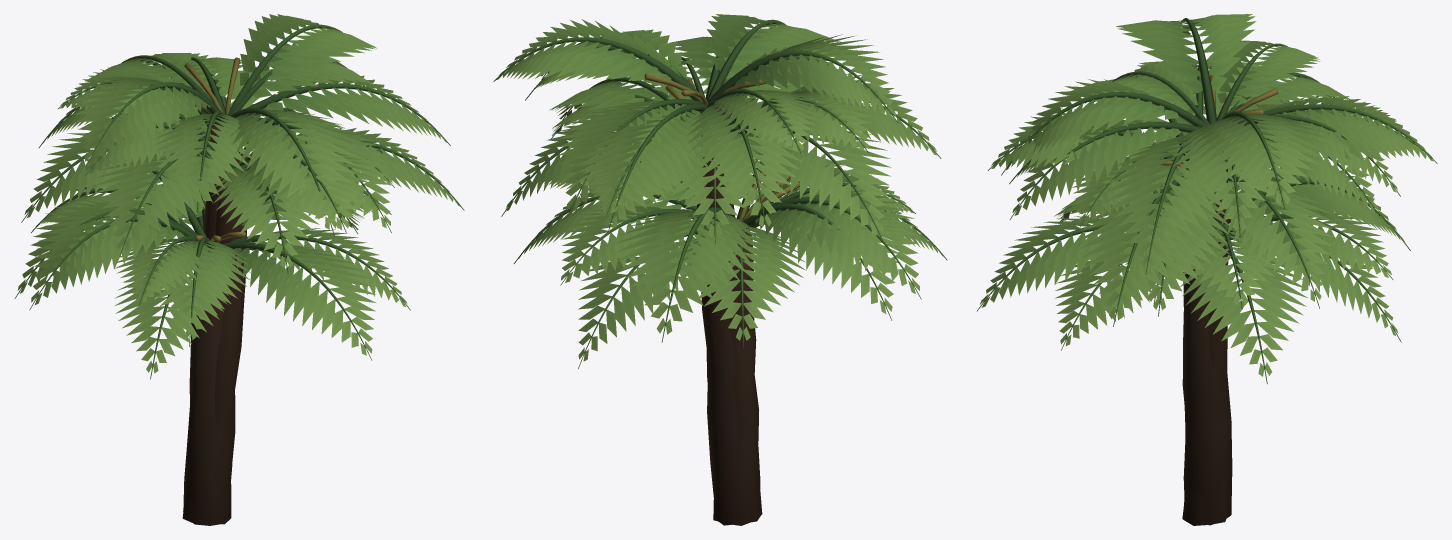
Rendered from treefern.glb.
3 renders of one model, left to right at view 1: azimuth 30°, elevation 25°; view 2: azimuth 150°, elevation 25°; view 3: azimuth 270°, elevation 25°, orthographic. The views are drawn at different scales.
Visible parts, largest first — view 1: treefern2, treefern1, treefern0; view 2: treefern2, treefern1, treefern0; view 3: treefern2, treefern0, treefern1.
Boxes of the visible parts, x1,y1,x2,y2 form: treefern2: (39,14,450,524); treefern1: (14,165,410,525); treefern0: (21,53,464,524); treefern2: (493,14,898,525); treefern1: (513,150,947,525); treefern0: (501,29,941,524); treefern2: (1001,14,1437,525); treefern0: (988,61,1428,525); treefern1: (976,141,1410,519).
Bounding box in the file's own units: 4.97 × 5.49 × 4.97.
